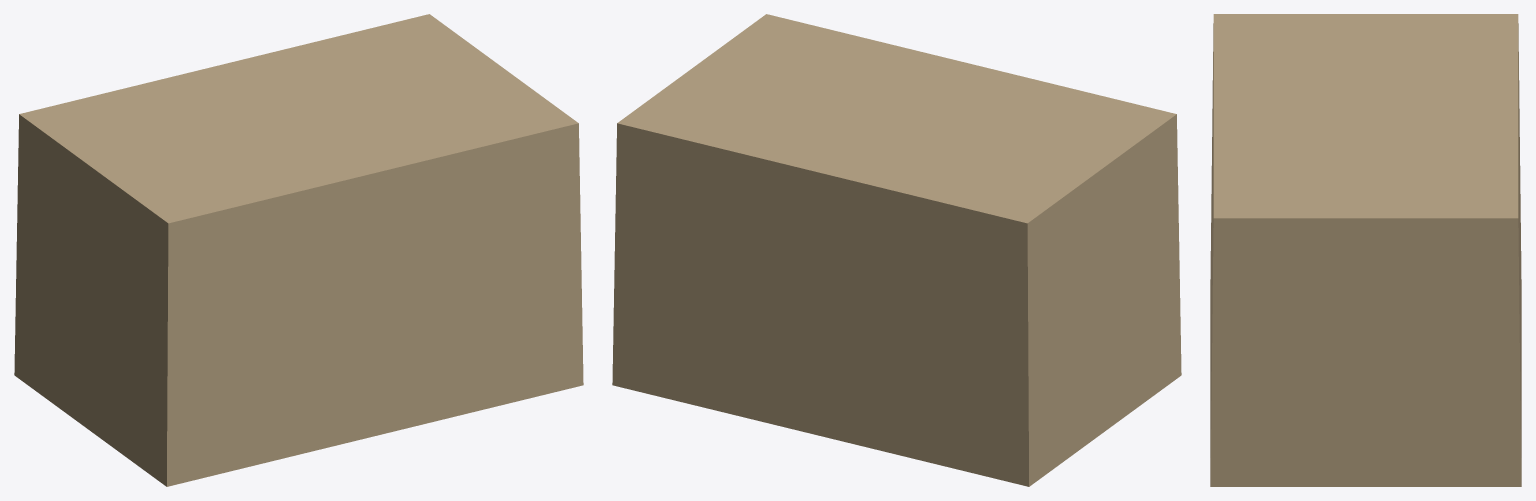
File: block.glb
3 renders of one model, left to right at view 1: azimuth 30°, elevation 25°; view 2: azimuth 150°, elevation 25°; view 3: azimuth 270°, elevation 25°, orthographic. The views are drawn at different scales.
Visible parts, largest first — view 1: block; view 2: block; view 3: block.
Boxes of the visible parts, x1,y1,x2,y2 form: block: [14, 14, 583, 486]; block: [612, 14, 1181, 486]; block: [1210, 14, 1521, 486].
Bounding box in the file's own units: 1.5 × 0.9 × 0.95.
